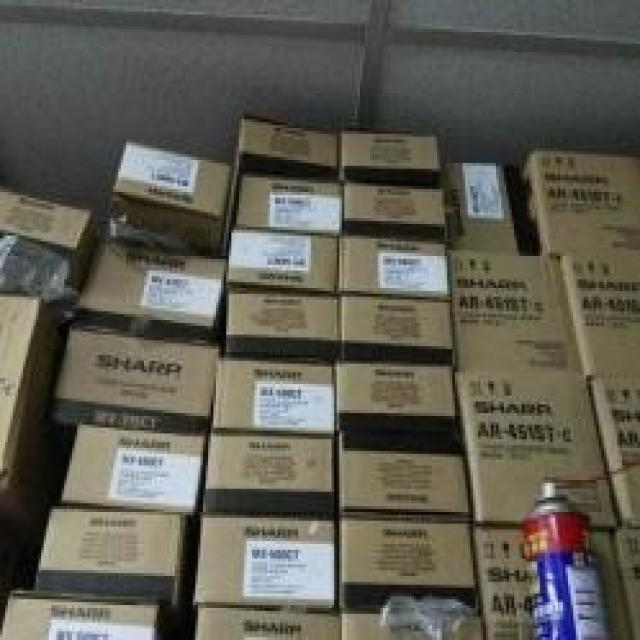box: (460, 368, 616, 532), (0, 292, 77, 531), (53, 326, 221, 435), (474, 523, 632, 637), (449, 249, 583, 377), (34, 507, 190, 607), (74, 242, 227, 341), (110, 138, 233, 256), (337, 517, 480, 618), (195, 510, 339, 608), (58, 424, 206, 516), (522, 147, 637, 252), (203, 432, 336, 516), (334, 369, 467, 452), (337, 442, 474, 521), (0, 187, 101, 287), (211, 357, 338, 436), (222, 284, 339, 366), (337, 293, 459, 371), (568, 253, 637, 390), (440, 160, 541, 251), (227, 222, 340, 292), (0, 589, 162, 637), (337, 233, 451, 300), (235, 110, 341, 179), (234, 175, 343, 235), (593, 389, 637, 526), (344, 179, 446, 236), (341, 130, 443, 184), (198, 602, 341, 637), (339, 609, 486, 637), (619, 526, 637, 637)
